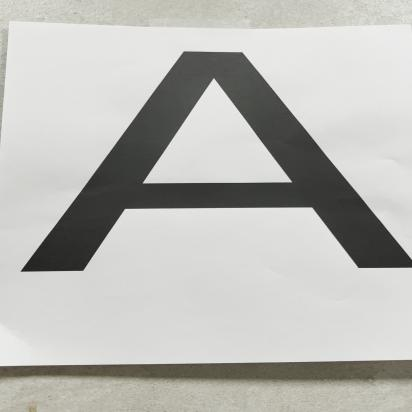seat: (9, 26, 412, 282)
